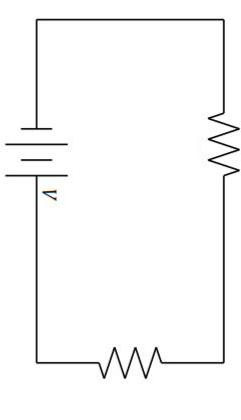resistor: (74, 336, 179, 385), (193, 93, 240, 186)
